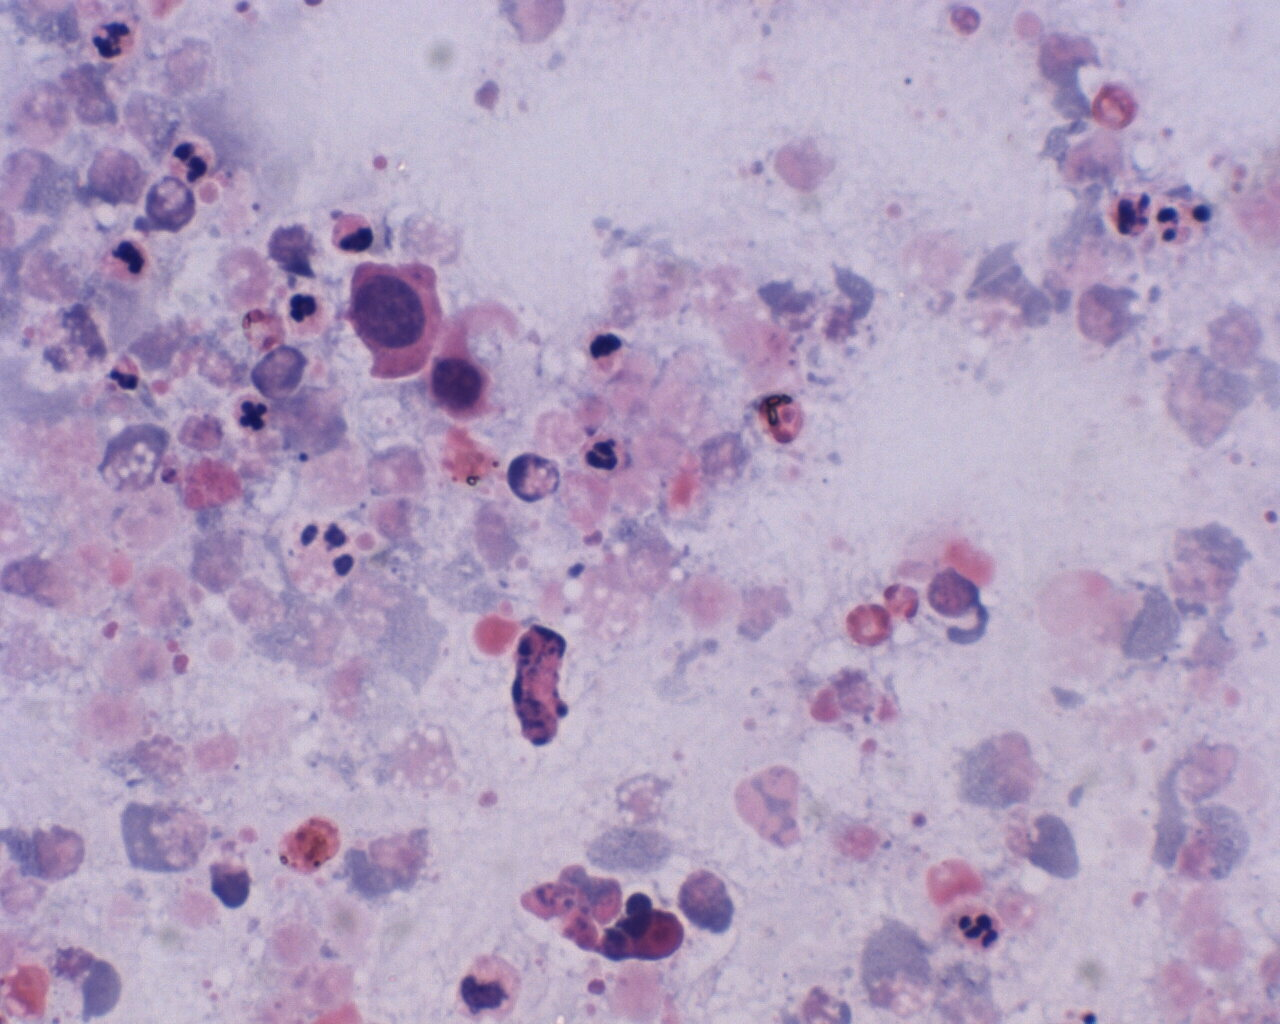ab: (346, 255, 443, 386)
neutro: (954, 907, 1005, 958), (578, 430, 631, 478)
